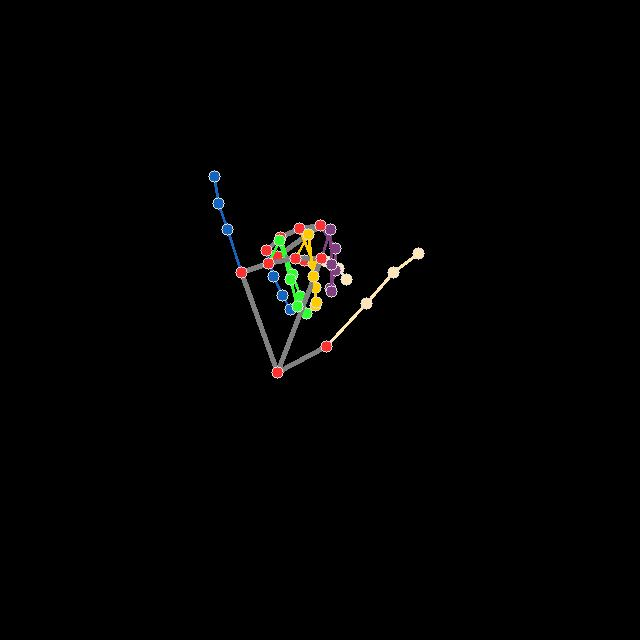skr: (206, 168, 425, 379)
